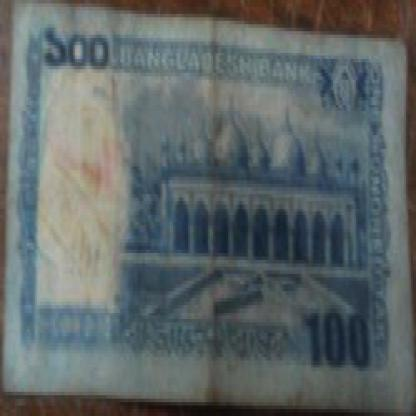one hundred taka: (304, 298, 373, 371), (40, 17, 113, 80)
